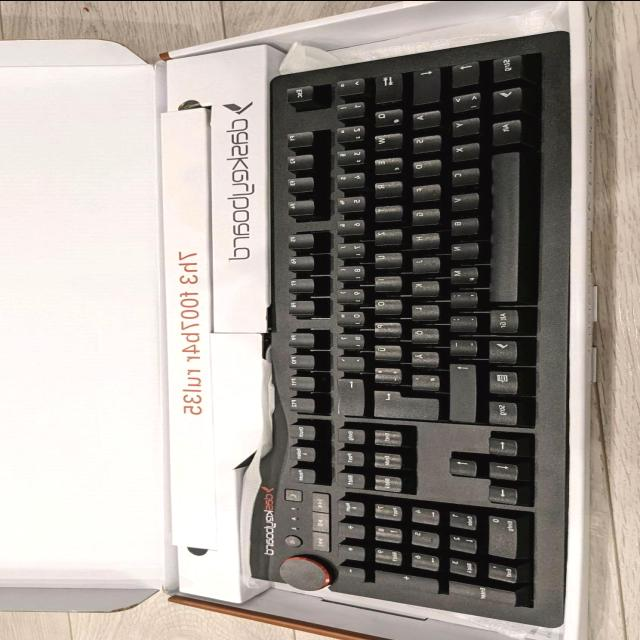0: (332, 309, 364, 325)
1: (332, 99, 363, 117)
2: (332, 123, 363, 141)
3: (332, 146, 364, 164)
4: (331, 170, 363, 186)
5: (331, 193, 363, 210)
6: (332, 217, 362, 233)
7: (332, 240, 364, 256)
8: (332, 263, 363, 279)
9: (332, 286, 363, 302)
a: (409, 108, 439, 127)
accent: (333, 354, 363, 370)
ae: (408, 349, 438, 365)
alt-left: (488, 116, 520, 144)
altgr-right: (485, 306, 517, 332)
b: (447, 216, 477, 234)
c: (448, 165, 478, 184)
caret: (332, 76, 363, 94)
comma: (446, 288, 476, 306)
d: (409, 157, 439, 175)
del: (333, 375, 363, 414)
e: (371, 155, 401, 173)
enter: (370, 387, 438, 419)
f: (409, 182, 439, 200)
g: (410, 206, 438, 224)
h: (408, 230, 438, 247)
hash: (408, 372, 438, 388)
i: (372, 274, 400, 290)
j: (409, 255, 439, 271)
k: (409, 279, 437, 295)
keyboard: (271, 39, 560, 619)
l: (408, 302, 438, 318)
less: (448, 90, 480, 111)
m: (447, 265, 477, 283)
minus: (447, 337, 475, 354)
n: (447, 240, 477, 258)
o: (372, 296, 400, 312)
oe: (408, 325, 438, 341)
p: (371, 320, 399, 336)
plus: (371, 365, 401, 382)
point: (447, 313, 475, 329)
q: (371, 107, 401, 125)
r: (371, 179, 401, 196)
s: (409, 133, 439, 151)
shift-left: (449, 58, 479, 85)
shift-lock: (410, 65, 440, 103)
shift-right: (445, 360, 475, 420)
space: (208, 330, 262, 472), (487, 147, 518, 303)
ss: (332, 331, 363, 347)
strg-left: (489, 51, 523, 81)
strg-right: (485, 398, 517, 424)
t: (372, 203, 400, 220)
tab: (372, 71, 402, 102)
u: (371, 250, 401, 266)
ue: (371, 342, 399, 358)
v: (447, 191, 477, 209)
w: (370, 131, 401, 149)
x: (448, 141, 478, 160)
y: (448, 116, 478, 135)
z: (371, 226, 399, 243)
